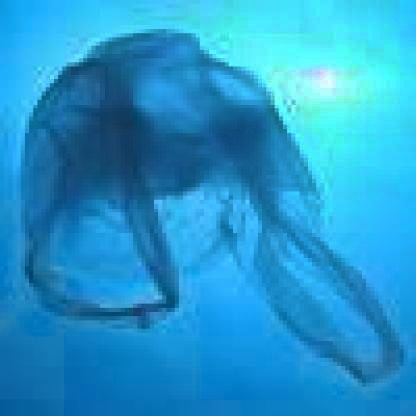pbag: (16, 29, 412, 383)
